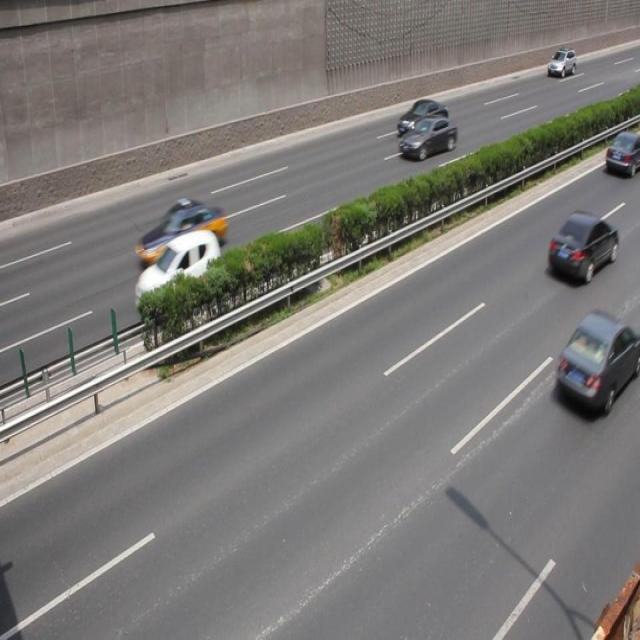car: (552, 305, 640, 416), (133, 232, 227, 325), (136, 204, 230, 270), (545, 212, 618, 281), (398, 118, 456, 161), (396, 97, 449, 136), (603, 130, 640, 176), (546, 50, 574, 78)
